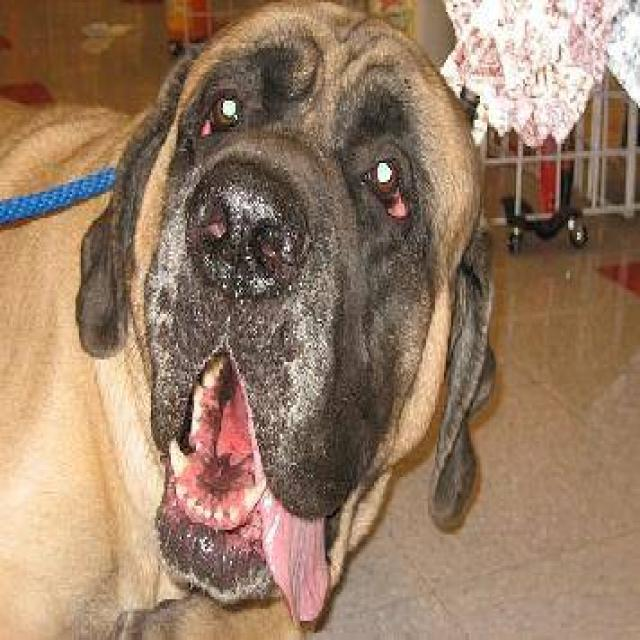dog: (0, 0, 496, 638)
